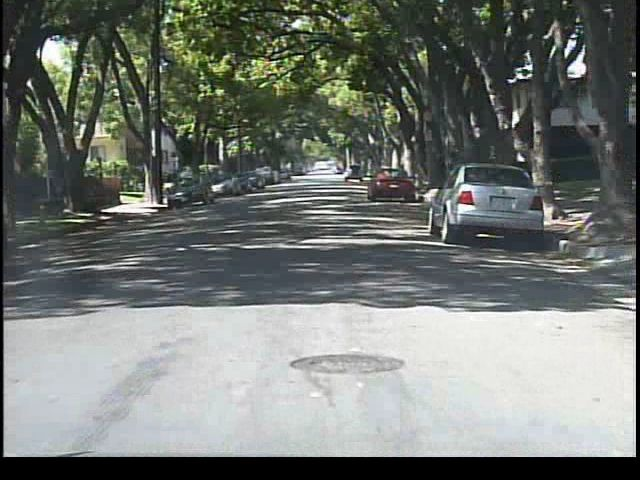person: (176, 168, 195, 201)
